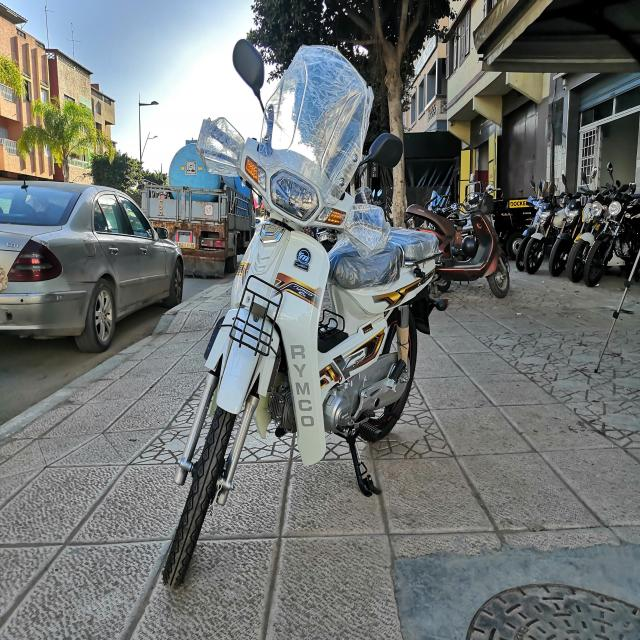Car: (0, 180, 184, 352)
Motorcycle: (162, 44, 448, 586), (407, 186, 510, 297)
Tree: (248, 0, 452, 148), (392, 159, 408, 225)
